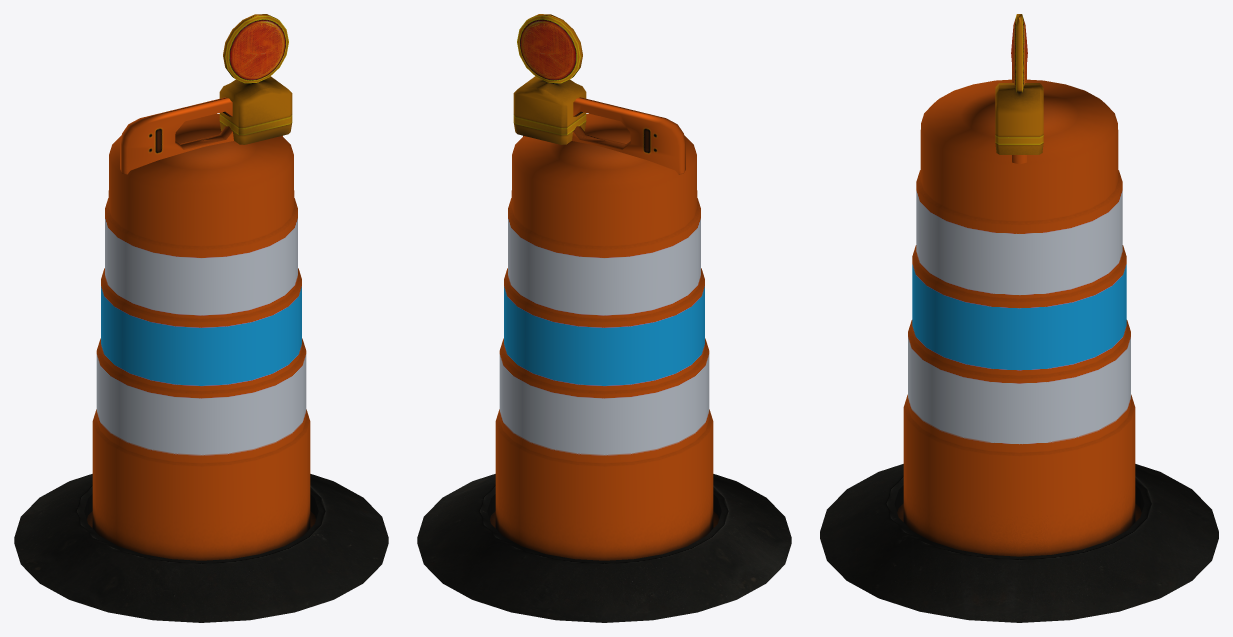
Rendered from construction_barrel.dae.
3 renders of one model, left to right at view 1: azimuth 30°, elevation 25°; view 2: azimuth 150°, elevation 25°; view 3: azimuth 270°, elevation 25°, orthographic. The views are drawn at different scales.
Parts seen in each view (by area): view 1: Cylinder002; view 2: Cylinder002; view 3: Cylinder002.
Boxes of the visible parts, bbox=[...] form: Cylinder002: bbox=[14, 14, 388, 622]; Cylinder002: bbox=[417, 14, 791, 622]; Cylinder002: bbox=[820, 14, 1218, 622].
Bounding box in the file's own units: 40.15 × 40.15 × 61.03.
1 material, 1 textured.
